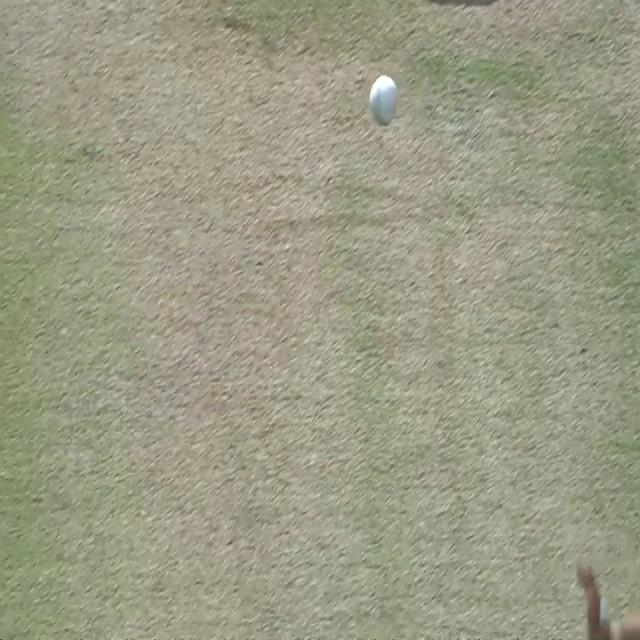ball: (367, 71, 401, 131)
